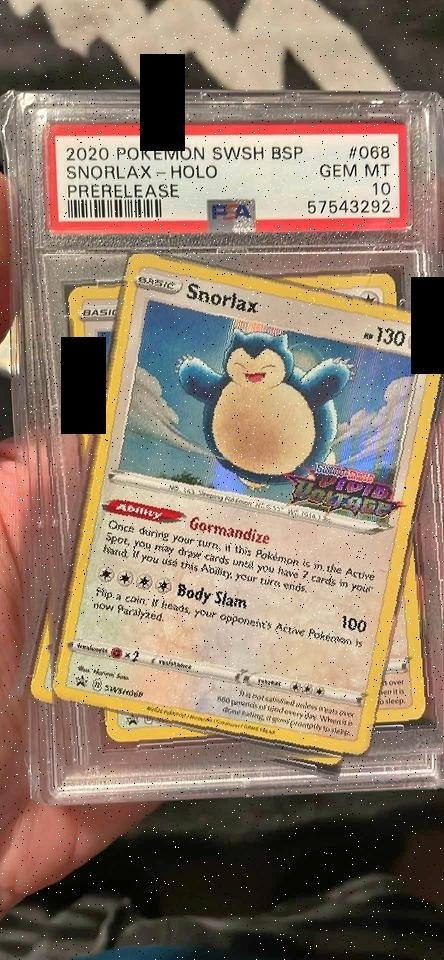card: (51, 254, 444, 758)
